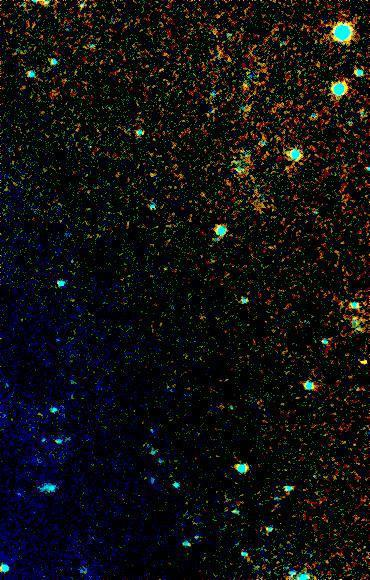star: (227, 69, 257, 99)
